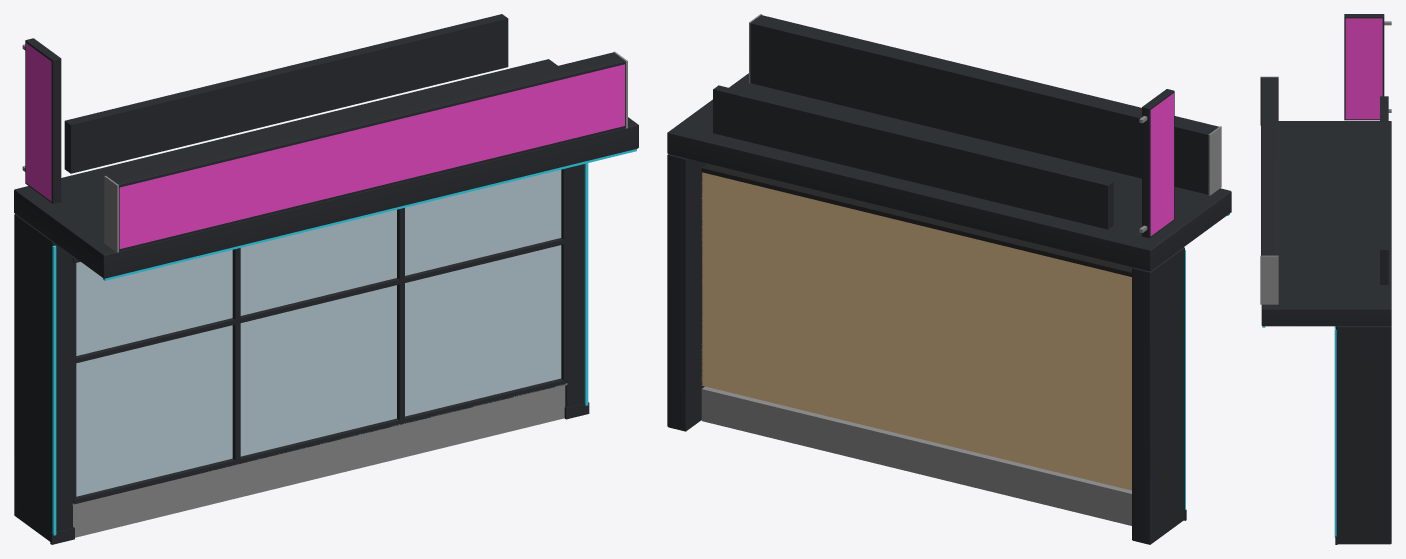
The model's file is St_Shop_Clinic_B.fbx.
3 views of the same model, side by side, from view 1: azimuth 30°, elevation 25°; view 2: azimuth 150°, elevation 25°; view 3: azimuth 270°, elevation 25° (orthographic). The views are drawn at different scales.
Parts seen in each view (by area): view 1: St_Shop_Clinic_B_LOD0; view 2: St_Shop_Clinic_B_LOD0; view 3: St_Shop_Clinic_B_LOD0.
Boxes of the visible parts, x1,y1,x2,y2 form: St_Shop_Clinic_B_LOD0: [14, 14, 638, 544]; St_Shop_Clinic_B_LOD0: [667, 14, 1231, 544]; St_Shop_Clinic_B_LOD0: [1260, 14, 1391, 544].
Size of what is drawn, in the model's own units: 6.02 by 5.12 by 1.77.
